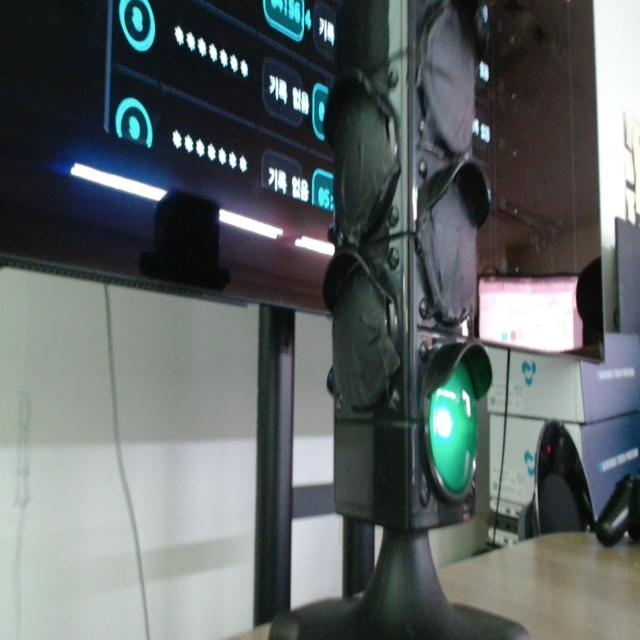green_light: (430, 364, 477, 496)
